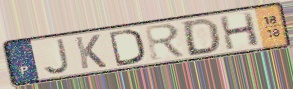D: (182, 17, 221, 58), (107, 28, 146, 68)
H: (218, 11, 262, 52)
J: (41, 37, 71, 76)
K: (73, 33, 109, 71)
R: (142, 22, 189, 62)
